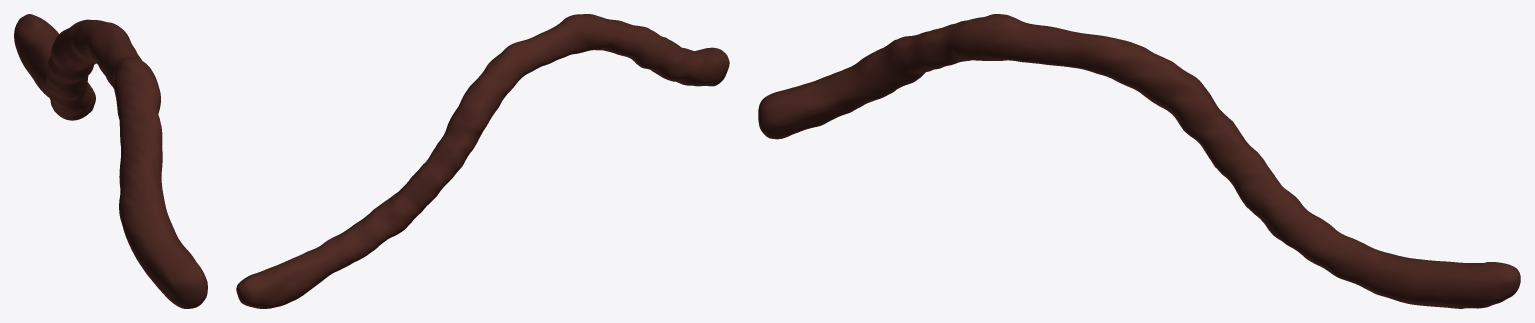
File: left common iliac artery.obj
The picture shows the model from 3 angles, left to right: view 1: azimuth 30°, elevation 25°; view 2: azimuth 150°, elevation 25°; view 3: azimuth 270°, elevation 25°; orthographic projection. The views are drawn at different scales.
Parts seen in each view (by area): view 1: grp1; view 2: grp1; view 3: grp1.
Boxes of the visible parts, left/top/right/bottom form: grp1: left=14, top=14, right=207, bottom=308; grp1: left=236, top=14, right=729, bottom=308; grp1: left=758, top=14, right=1520, bottom=308.
Bounding box in the file's own units: 67.09 × 58.52 × 181.
